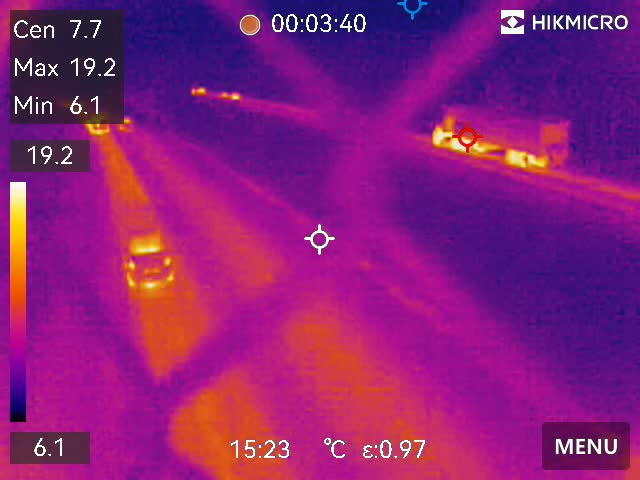heavyTruck: (429, 102, 568, 172)
